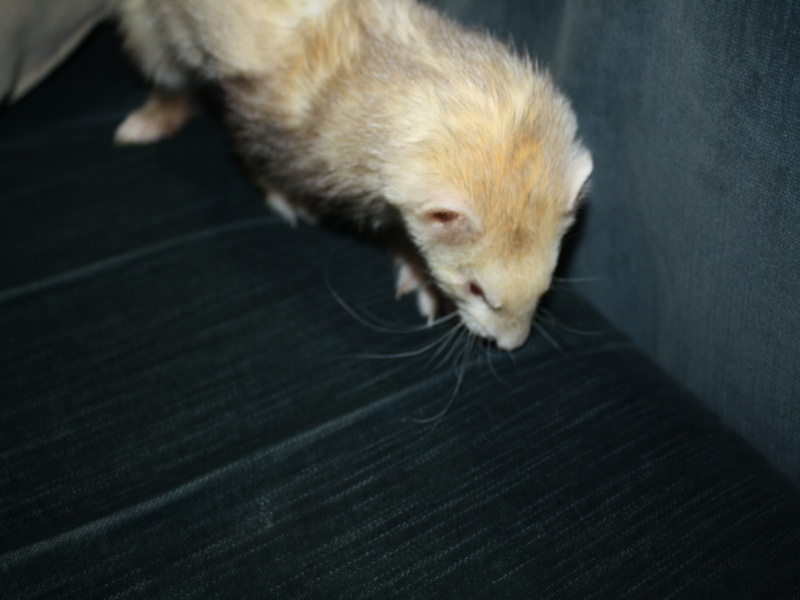minkish: (97, 1, 598, 373)
